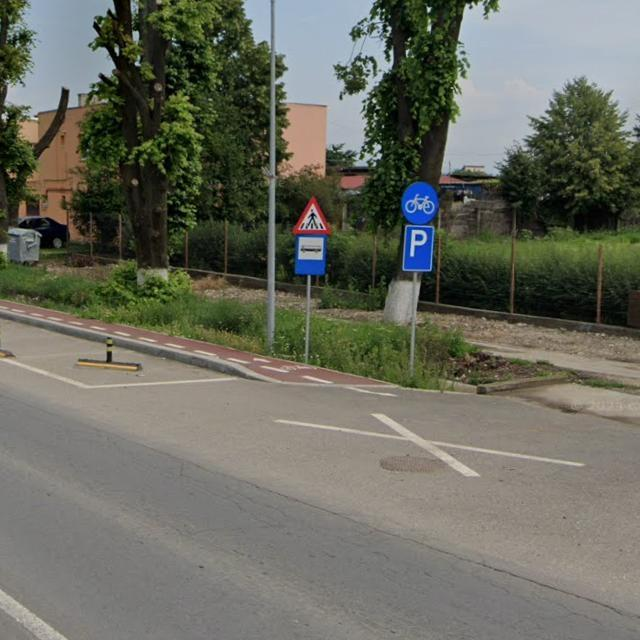warn_crosswalk: (292, 196, 332, 235)
